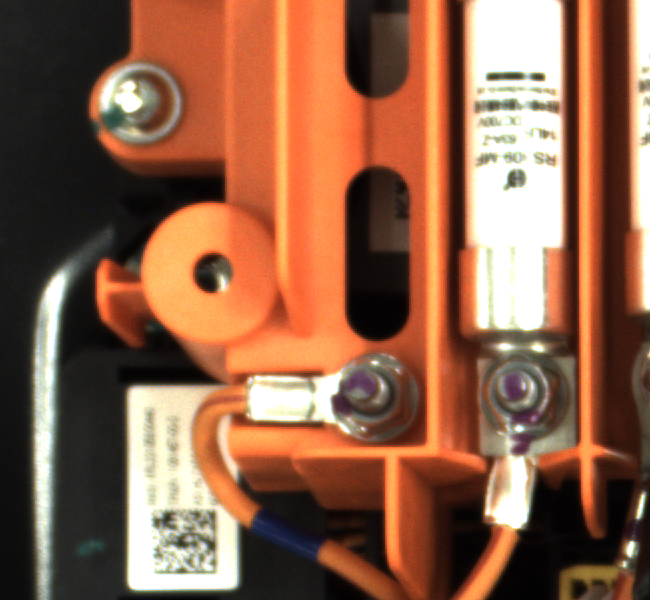screw_m: (91, 58, 210, 157)
screw_s: (322, 355, 430, 438), (479, 349, 572, 440)
